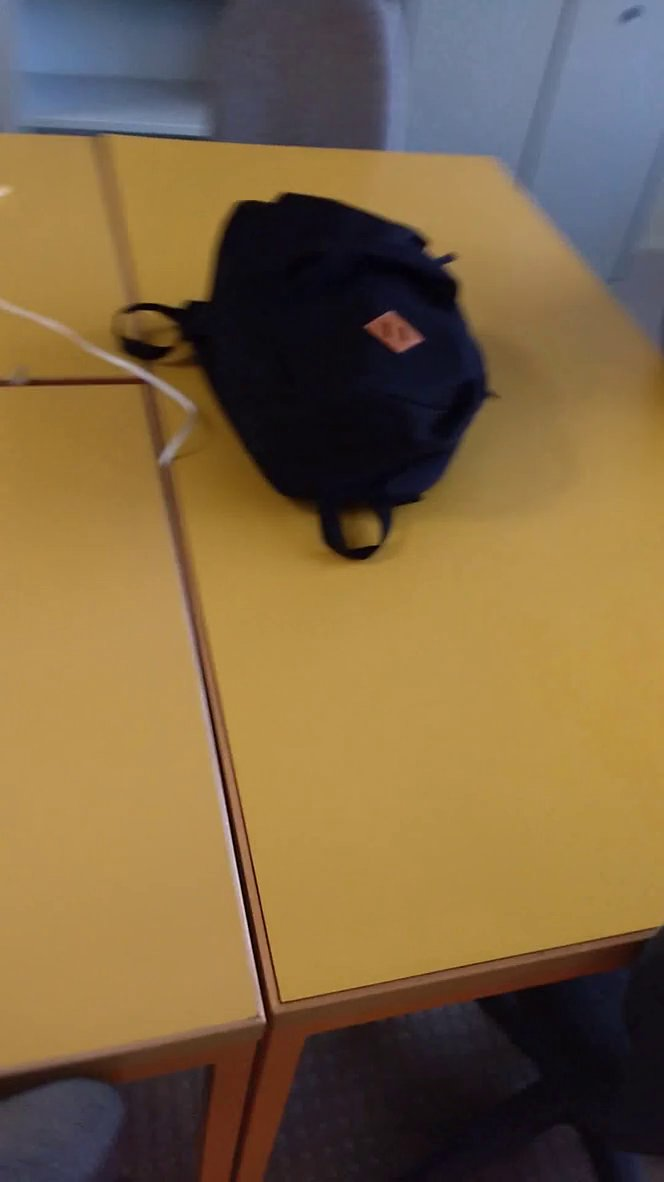bag: (103, 187, 510, 568)
chair: (191, 1, 412, 178)
